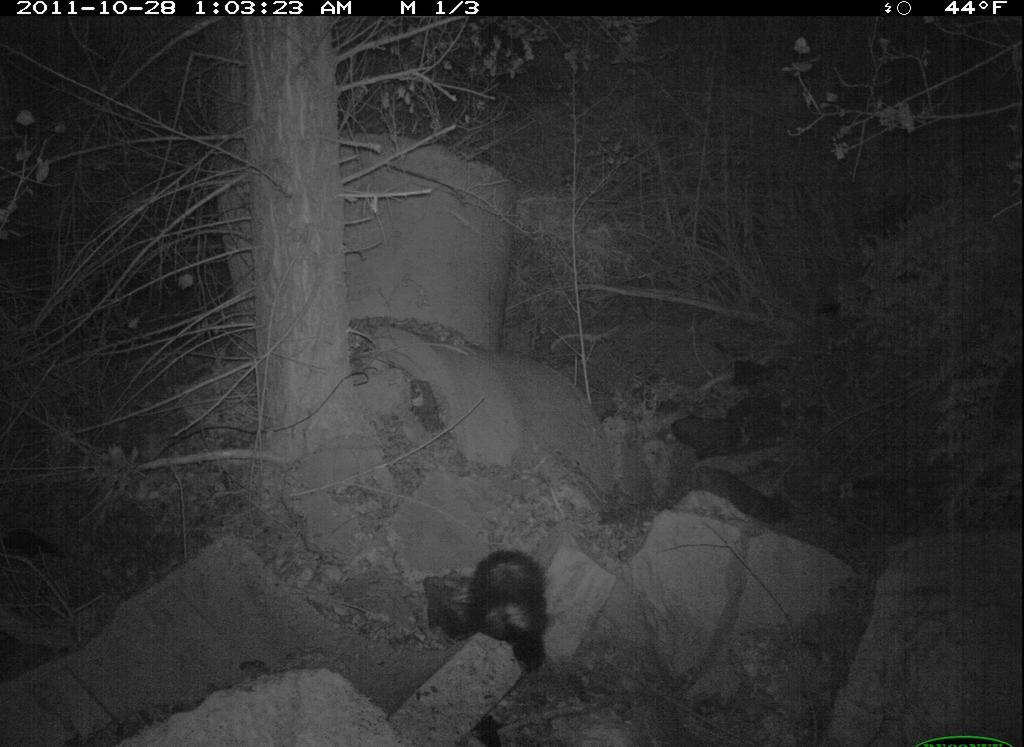skunk: (420, 541, 556, 681)
